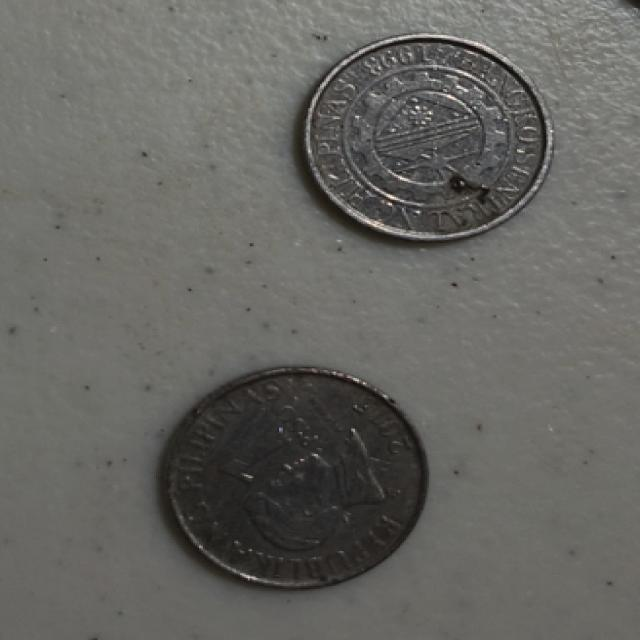1_peso: (166, 368, 425, 588), (306, 33, 550, 238)
